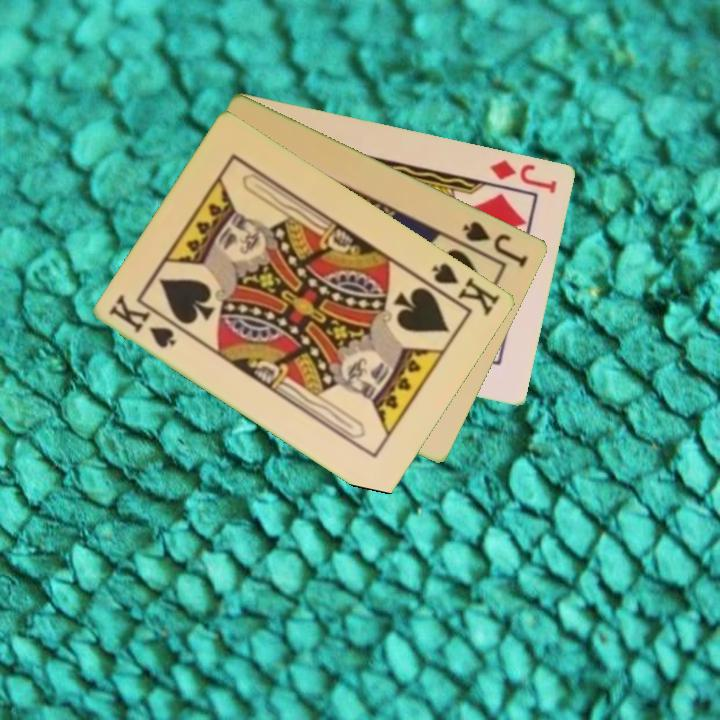Jd: (487, 155, 561, 196)
Js: (459, 217, 532, 271)
Ks: (420, 259, 504, 319), (105, 291, 180, 351)
